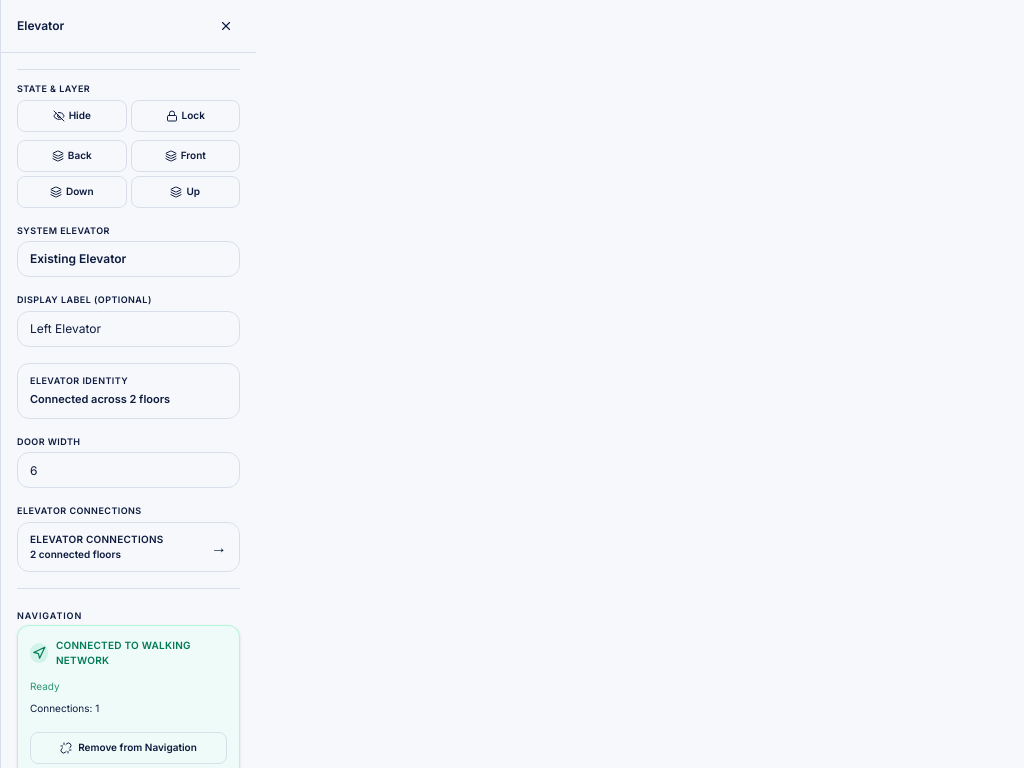
Test case: Elevator authoring connections › opens a stable floor-aware manager instead of a flat shaft picker
The width and height of the screenshot is (1024, 768).
Click the button with test id "circulation-group-trigger-elevator" at (128, 547), box [17, 522, 240, 572]
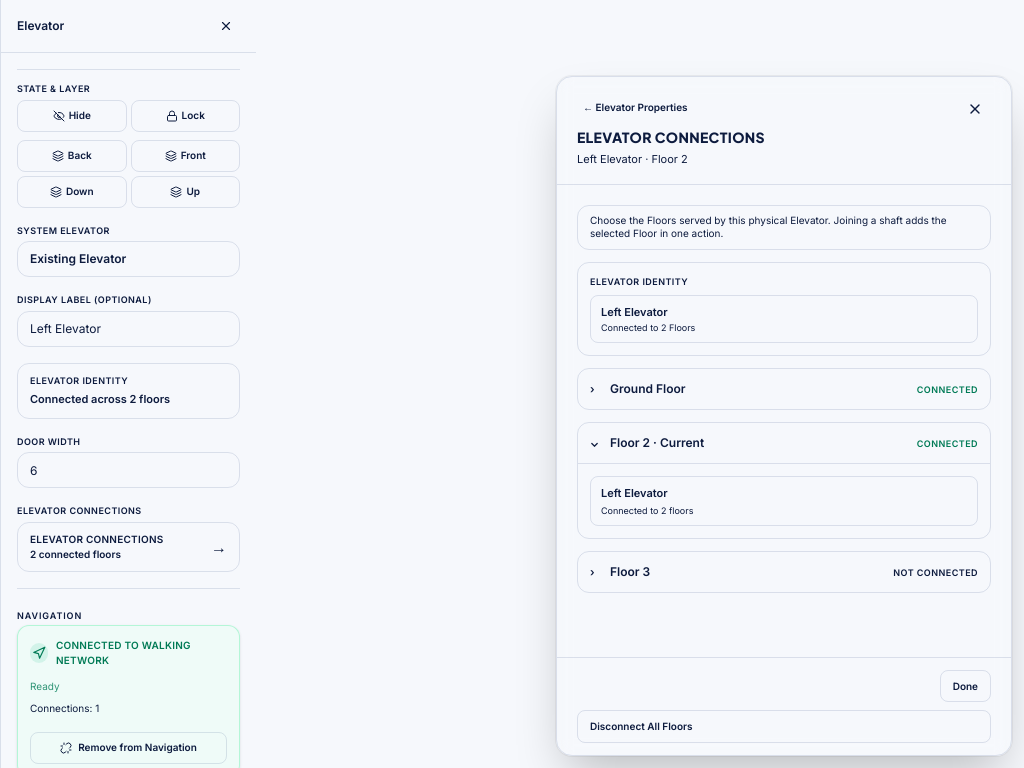
Now the dialog with test id "elevator-connections-manager" shows "Elevator Connections", box [577, 128, 765, 146]
Now the dialog with test id "elevator-connections-manager" shows "Floor 2 · Current", box [556, 76, 1012, 756]
Now the dialog with test id "elevator-connections-manager" shows "Ground Floor", box [578, 369, 990, 409]
